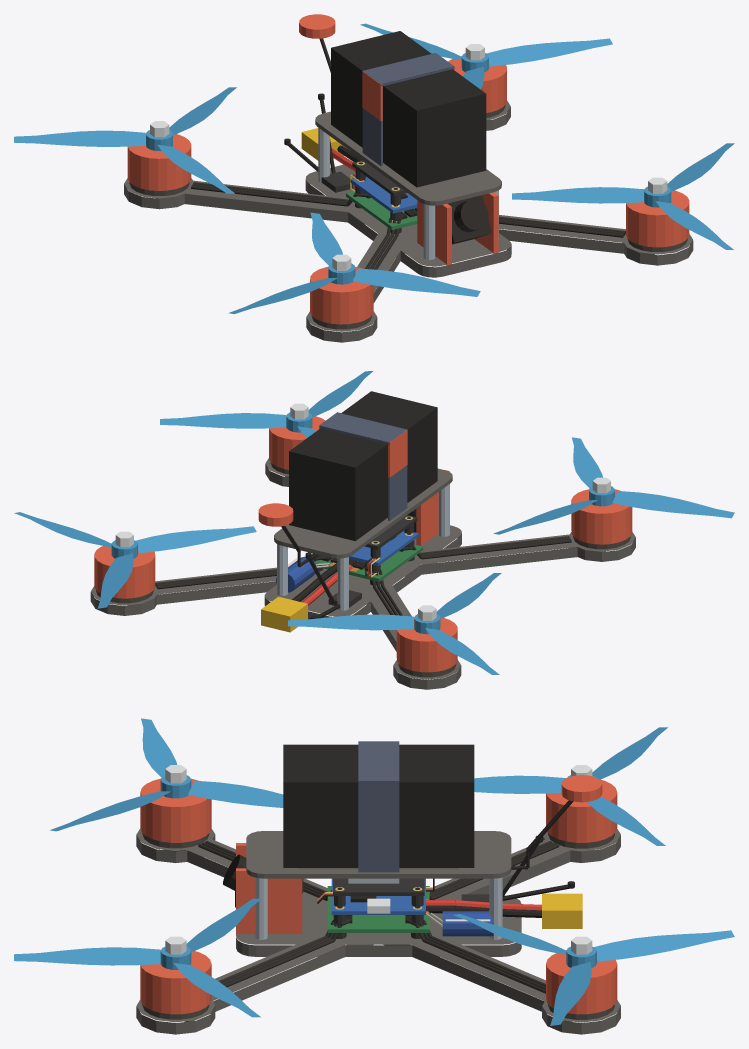
The model's file is quad5.glb.
3 renders of one model, top to bottom at view 1: azimuth 30°, elevation 25°; view 2: azimuth 150°, elevation 25°; view 3: azimuth 270°, elevation 25°, orthographic. The views are drawn at different scales.
Visible parts, largest first — view 1: static, static.cover, prop:M4, prop:M1, prop:M2, prop:M3; view 2: static, static.cover, prop:M3, prop:M1, prop:M2, prop:M4; view 3: static, static.cover, prop:M3, prop:M4, prop:M2, prop:M1.
Part boxes in pixels (x1=…): static: x1=124, y1=14, x2=693, y2=342; static.cover: x1=315, y1=31, x2=501, y2=260; prop:M4: x1=512, y1=143, x2=734, y2=249; prop:M1: x1=14, y1=87, x2=236, y2=193; prop:M2: x1=228, y1=212, x2=480, y2=313; prop:M3: x1=360, y1=23, x2=612, y2=89; static: x1=90, y1=403, x2=635, y2=689; static.cover: x1=274, y1=391, x2=452, y2=610; prop:M3: x1=14, y1=512, x2=256, y2=608; prop:M1: x1=288, y1=573, x2=501, y2=674; prop:M2: x1=493, y1=437, x2=734, y2=534; prop:M4: x1=160, y1=371, x2=373, y2=437; static: x1=136, y1=765, x2=620, y2=1034; static.cover: x1=246, y1=741, x2=511, y2=939; prop:M3: x1=453, y1=914, x2=734, y2=1025; prop:M4: x1=14, y1=898, x2=261, y2=1017; prop:M2: x1=50, y1=718, x2=283, y2=831; prop:M1: x1=474, y1=727, x2=667, y2=845.
Bounding box in the file's own units: 0.2849 × 0.074 × 0.2828.
